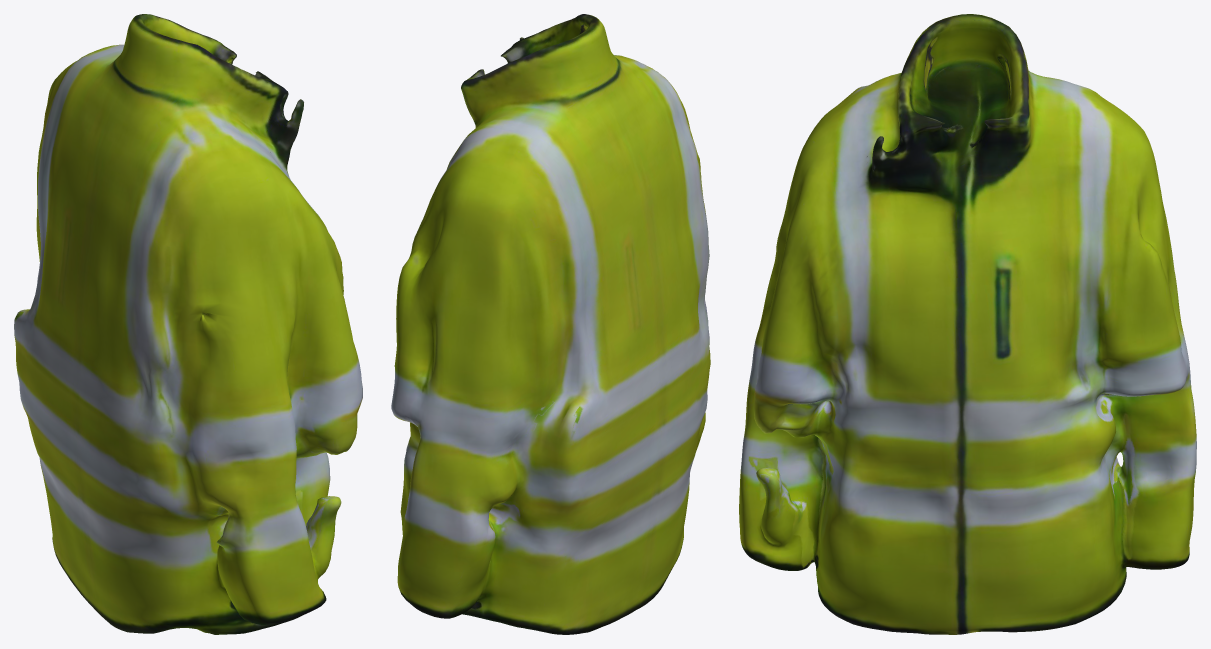
File: hi_vis_jacket.glb
3 renders of one model, left to right at view 1: azimuth 30°, elevation 25°; view 2: azimuth 150°, elevation 25°; view 3: azimuth 270°, elevation 25°, orthographic.
Parts seen in each view (by area): view 1: mesh; view 2: mesh; view 3: mesh.
Part boxes in pixels (x1,y1,x2,y2): mesh: (14,14,362,634); mesh: (391,14,710,634); mesh: (739,14,1196,634).
Bounding box in the file's own units: 0.4077 × 0.9981 × 0.7212.
1 material, 1 textured.
